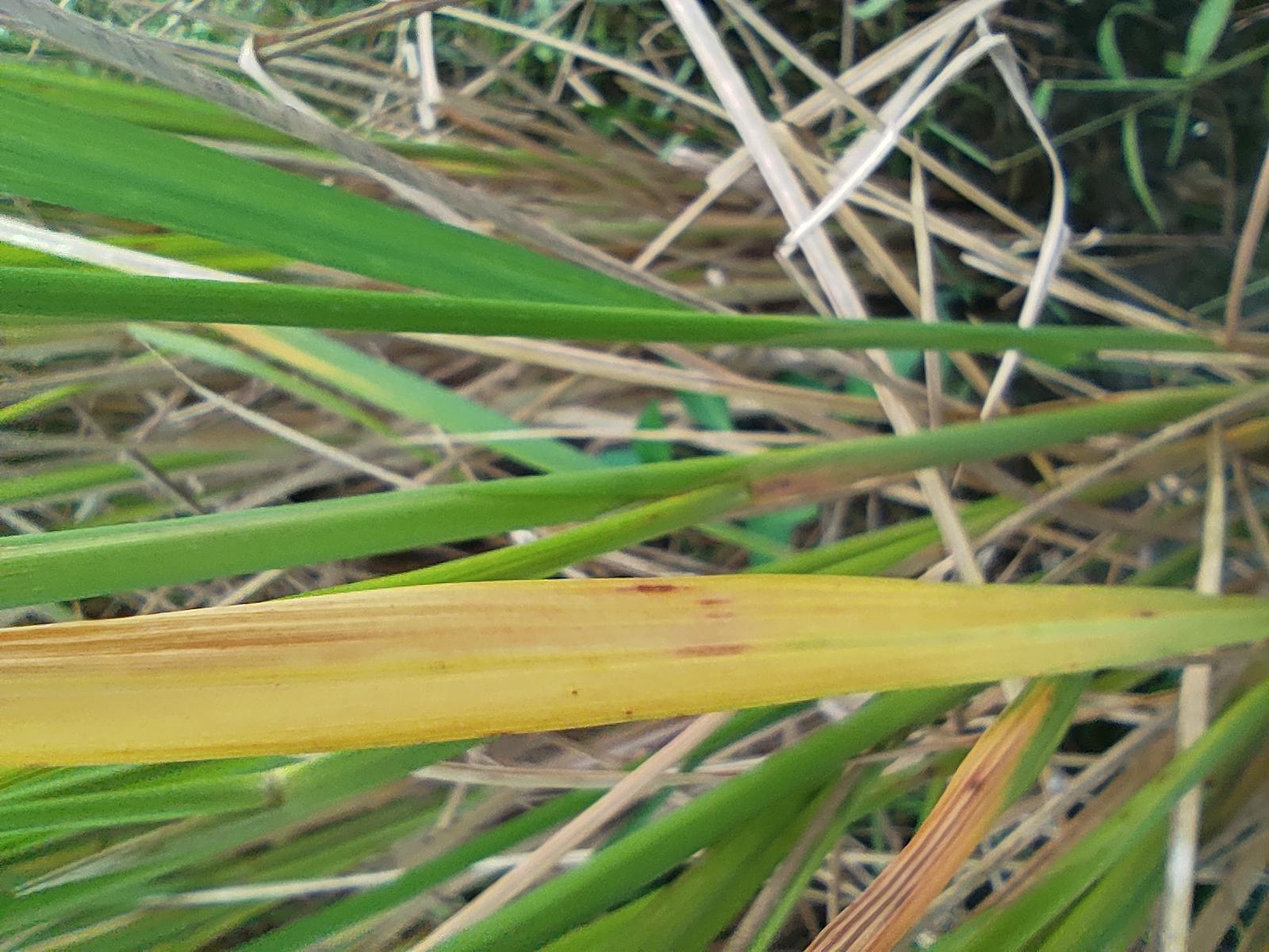LEAF: (247, 0, 502, 951)
NBS: (390, 505, 410, 563), (477, 477, 489, 508), (442, 526, 453, 553), (462, 522, 472, 549), (443, 851, 454, 870)
